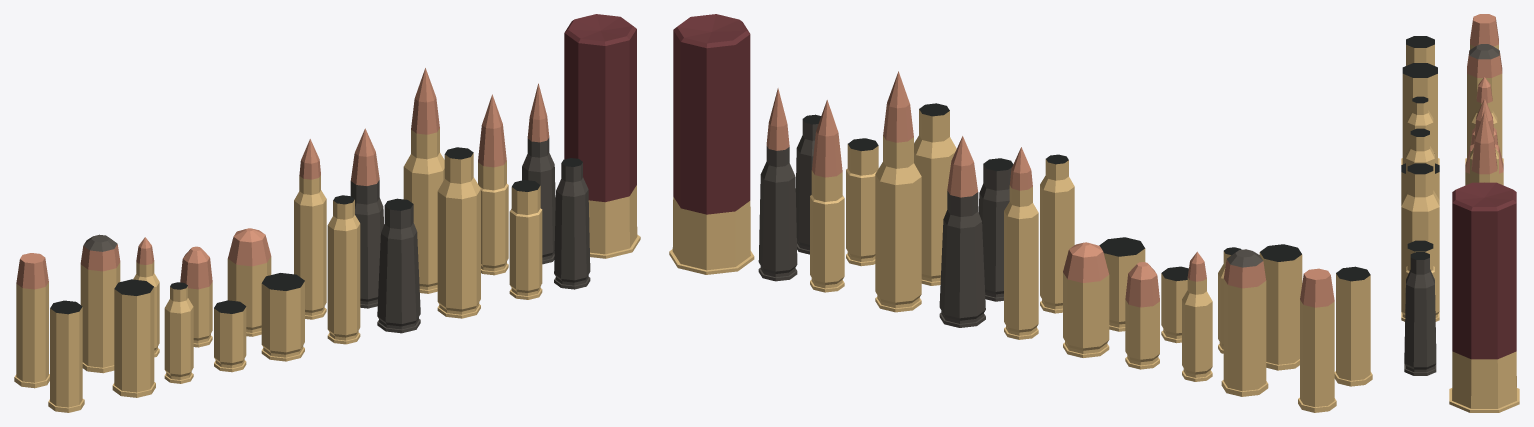
The model's file is cartridges.fbx.
3 renders of one model, left to right at view 1: azimuth 30°, elevation 25°; view 2: azimuth 150°, elevation 25°; view 3: azimuth 270°, elevation 25°, orthographic. The views are drawn at different scales.
Parts seen in each view (by area): view 1: cartridges v2 - 12ga, cartridges v2 - 308_case, cartridges v2 - 308, cartridges v2 - 762_case, cartridges v2 - 44mag, cartridges v2 - 44mag_case, cartridges v2 - 556_case, cartridges v2 - 556, cartridges v2 - 300blk, cartridges v2 - 357mag, cartridges v2 - 545_case, cartridges v2 - 762 (+9 smaller); view 2: cartridges v2 - 12ga, cartridges v2 - 308, cartridges v2 - 762, cartridges v2 - 44mag, cartridges v2 - 556, cartridges v2 - 300blk, cartridges v2 - 545, cartridges v2 - 308_case, cartridges v2 - 45acp, cartridges v2 - 357mag, cartridges v2 - 556_case, cartridges v2 - 44mag_case (+9 smaller); view 3: cartridges v2 - 12ga, cartridges v2 - 545_case, cartridges v2 - 308_case, cartridges v2 - 44mag, cartridges v2 - 44mag_case, cartridges v2 - 308, cartridges v2 - 556_case, cartridges v2 - pdw_case, cartridges v2 - 357mag, cartridges v2 - 357mag_case, cartridges v2 - pdw, cartridges v2 - 300blk_case (+3 smaller).
Boxes of the visible parts, box(x1,y1,x2,y2) form: cartridges v2 - 12ga: box(564, 14, 640, 258); cartridges v2 - 308_case: box(437, 147, 480, 318); cartridges v2 - 308: box(403, 68, 444, 293); cartridges v2 - 762_case: box(377, 198, 420, 333); cartridges v2 - 44mag: box(80, 234, 120, 373); cartridges v2 - 44mag_case: box(112, 279, 155, 397); cartridges v2 - 556_case: box(327, 195, 360, 344); cartridges v2 - 556: box(294, 139, 326, 319); cartridges v2 - 300blk: box(478, 94, 508, 275); cartridges v2 - 357mag: box(14, 253, 49, 388); cartridges v2 - 545_case: box(554, 158, 590, 289); cartridges v2 - 762: box(350, 128, 384, 308); cartridges v2 - 12ga: box(669, 14, 754, 274); cartridges v2 - 308: box(875, 71, 921, 312); cartridges v2 - 762: box(939, 136, 985, 327); cartridges v2 - 44mag: box(1221, 249, 1268, 396); cartridges v2 - 556: box(1004, 147, 1038, 339); cartridges v2 - 300blk: box(810, 100, 844, 292); cartridges v2 - 545: box(758, 88, 797, 281); cartridges v2 - 308_case: box(914, 103, 956, 285); cartridges v2 - 45acp: box(1063, 242, 1109, 357); cartridges v2 - 357mag: box(1298, 268, 1336, 412); cartridges v2 - 556_case: box(1040, 154, 1074, 313); cartridges v2 - 44mag_case: box(1259, 244, 1302, 370); cartridges v2 - 12ga: box(1449, 182, 1519, 412); cartridges v2 - 545_case: box(1404, 252, 1436, 375); cartridges v2 - 308_case: box(1401, 163, 1439, 321); cartridges v2 - 44mag: box(1465, 44, 1503, 164); cartridges v2 - 44mag_case: box(1401, 63, 1439, 164); cartridges v2 - 308: box(1471, 111, 1497, 182); cartridges v2 - 556_case: box(1406, 128, 1434, 191); cartridges v2 - pdw_case: box(1407, 96, 1433, 150); cartridges v2 - 357mag: box(1470, 14, 1498, 49); cartridges v2 - 357mag_case: box(1406, 36, 1434, 65); cartridges v2 - pdw: box(1471, 77, 1497, 135); cartridges v2 - 300blk_case: box(1406, 240, 1434, 279).
Size of the model in its own units: 21.02 by 7.1 by 3.7.
Materials: 21 (21 with a texture image).
